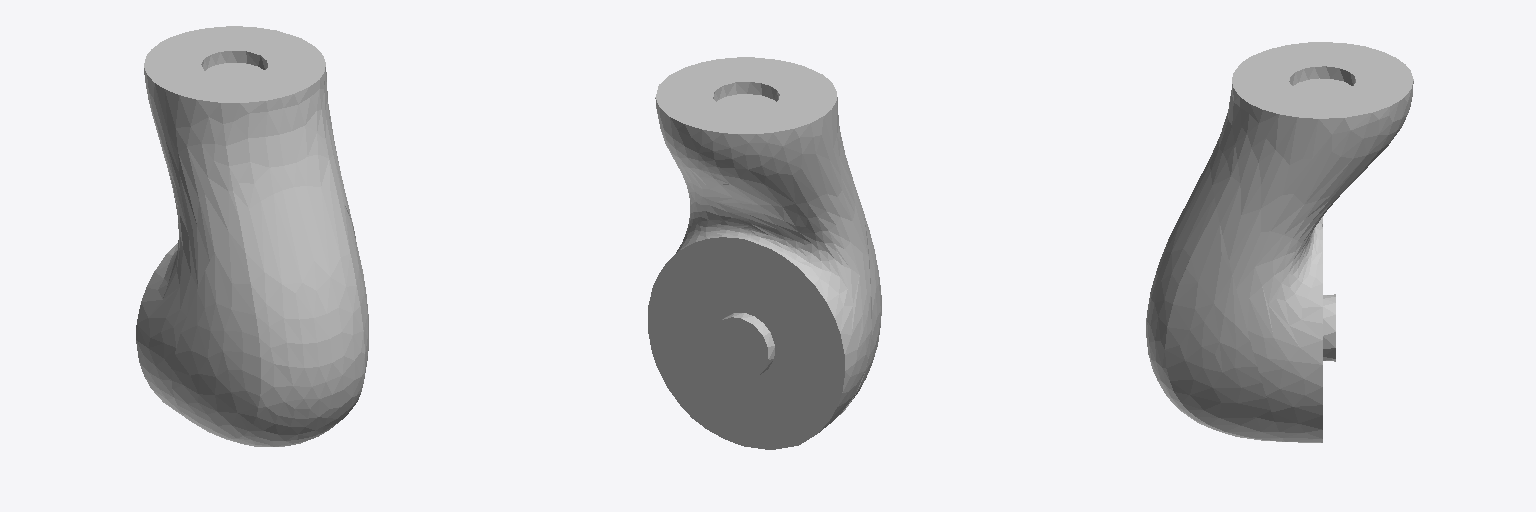
3 renders of one model, left to right at view 1: azimuth 30°, elevation 25°; view 2: azimuth 150°, elevation 25°; view 3: azimuth 270°, elevation 25°, orthographic.
Parts seen in each view (by area): view 1: Link_2_Link_2.001; view 2: Link_2_Link_2.001; view 3: Link_2_Link_2.001.
Part boxes in pixels (bbox=[...]): Link_2_Link_2.001: bbox=[136, 26, 368, 446]; Link_2_Link_2.001: bbox=[648, 57, 881, 449]; Link_2_Link_2.001: bbox=[1146, 42, 1413, 442].
Bounding box in the file's own units: 0.1708 × 0.2902 × 0.2003.